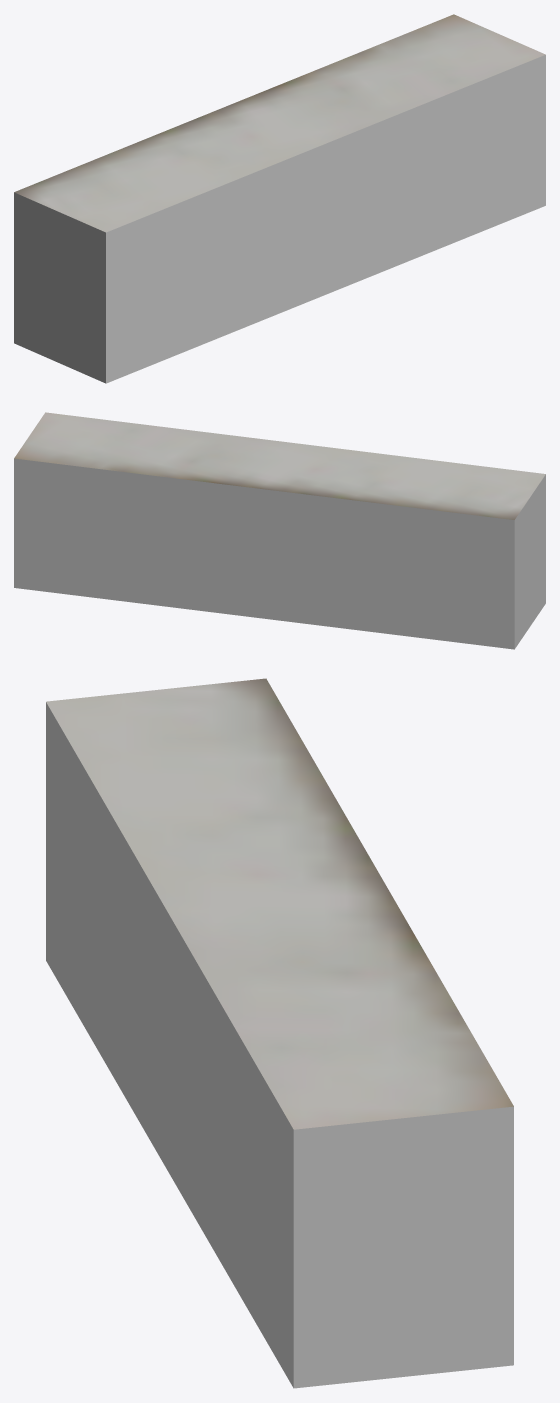
The model's file is DEBW_0010007THX8.gltf.
3 renders of one model, top to bottom at view 1: azimuth 30°, elevation 25°; view 2: azimuth 150°, elevation 25°; view 3: azimuth 270°, elevation 25°, orthographic. The views are drawn at different scales.
Visible parts, largest first — view 1: Z_UP; view 2: Z_UP; view 3: Z_UP.
Boxes of the visible parts, x1=… form: Z_UP: x1=14, y1=14, x2=545, y2=383; Z_UP: x1=14, y1=412, x2=545, y2=649; Z_UP: x1=46, y1=678, x2=513, y2=1388.
Bounding box in the file's own units: 9.35 × 2.5 × 4.1.
2 materials, 1 textured.
